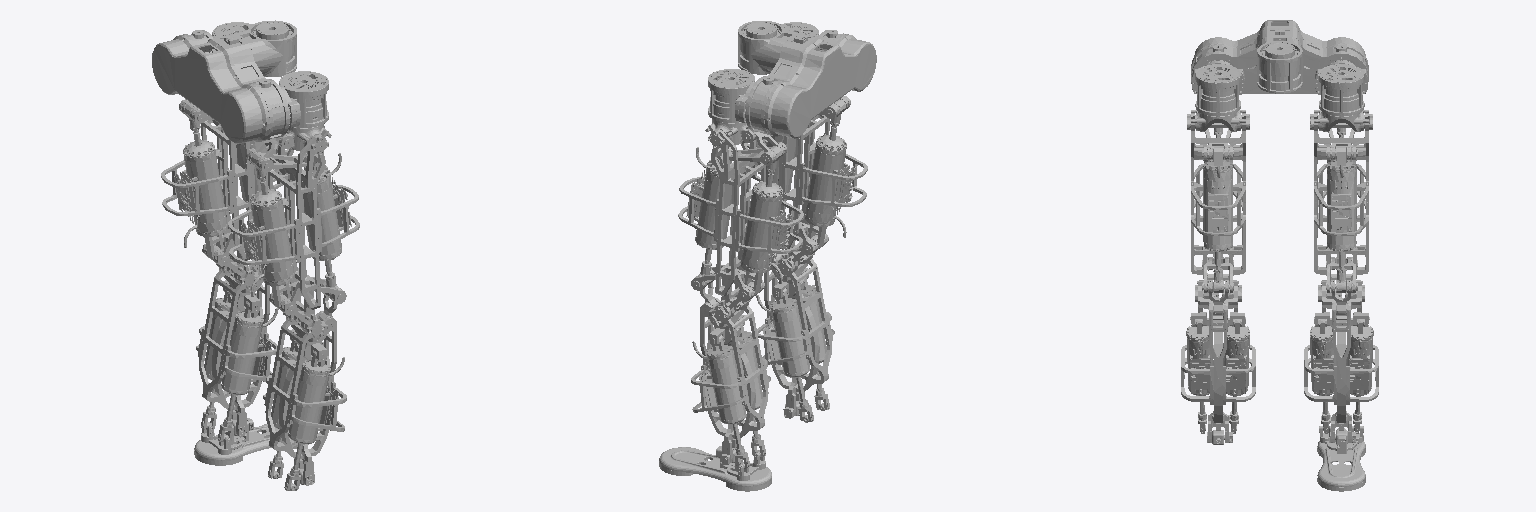
robot.urdf — XBot-L:
<?xml version="1.0" encoding="utf-8"?>
<!-- This URDF was automatically created by SolidWorks to URDF Exporter! Originally created by [author] ([email redacted]) 
     Commit Version: 1.6.0-4-g7f85cfe  Build Version: 1.6.7995.38578
     For more information, please see http://wiki.ros.org/sw_urdf_exporter -->
<robot name="XBot-L">
  <mujoco>
    <compiler meshdir="../meshes/" balanceinertia="true" discardvisual="false" />
  </mujoco>
  <!-- <link name="odom">
  </link> -->

  <!-- <joint name="ob" type="revolute">
     <origin xyz="0 0 0" rpy="0 0 0" />
    <parent link="odom" />
    <child link="base_link" />
    <axis xyz="0 1 0" />
    <limit lower="-0.4647" upper="0.5" effort="350" velocity="4" />
    <dynamics damping="0.1" friction="0.1" />
  </joint>   -->

  <link name="base_link">
    <inertial>
      <origin xyz="-0.080697 8.52E-06 -0.087154" rpy="0 0 0" />
      <mass value="8.7757" />
      <inertia ixx="0.13466" ixy="-0.00013895" ixz="-0.0099766" iyy="0.037377" iyz="-9.094E-05" izz="0.13912" />
    </inertial>
    <visual>
      <origin xyz="0 0 0" rpy="0 0 0" />
      <geometry>
        <mesh filename="../meshes/base_link.STL" />
      </geometry>
      <material name="">
        <color rgba="0.75294 0.75294 0.75294 1" />
      </material>
    </visual>
    <collision>
      <origin xyz="0 0 0" rpy="0 0 0" />
      <geometry>
        <box size="0.5 0.2 0.2"/>
      </geometry>
    </collision>

    <!-- <collision>
      <origin xyz="0 0 0" rpy="0 0 0" />
      <geometry>
        <mesh filename="../meshes/base_link.STL" />
      </geometry>
    </collision> -->
  </link>

  <!--left leg  %%%%%%%%%%%%%%%%%%%%%%%%%%%%%%%%%%%%%%%%%%%%%%%%%%%%%%%%%%%%%%%%%%%%%%%%%%%%%%%%%%%%%%%%%%%%%%%%%%%%-->
  <link name="leg_l1_link">
    <inertial>
      <origin xyz="0.050925 -8.452E-05 -0.005854" rpy="0 0 0" />
      <mass value="2.2605" />
      <inertia ixx="0.003557" ixy="4.7E-07" ixz="0.00016875" iyy="0.0038455" iyz="5.86E-06" izz="0.0044064" />
    </inertial>
    <visual>
      <origin xyz="0 0 0" rpy="0 0 0" />
      <geometry>
        <mesh filename="../meshes/leg_l1_link.STL" />
      </geometry>
      <material name="">
        <color rgba="0.75294 0.75294 0.75294 1" />
      </material>
    </visual>
    <!-- <collision>
      <origin xyz="0 0 0" rpy="0 0 0" />
      <geometry>
        <mesh filename="../meshes/left_leg_roll_link.STL" />
      </geometry>
    </collision> -->
  </link>
  <joint name="leg_l1_joint" type="revolute">
    <origin xyz="-0.0666 0.14 -0.109" rpy="0 0 0" />
    <parent link="base_link" />
    <child link="leg_l1_link" />
    <axis xyz="1 0 0" />
    <limit lower="-0.087" upper="1.57" effort="119" velocity="2.51" />
    <dynamics damping="12.736" friction="2.736" />
  </joint>
  <link name="leg_l2_link">
    <inertial>
      <origin xyz="-0.0039083 -0.0011634 -0.026864" rpy="0 0 0" />
      <mass value="0.67611" />
      <inertia ixx="0.0012933" ixy="3.08E-06" ixz="-1.89E-05" iyy="0.0003687" iyz="-3.6E-06" izz="0.0014339" />
    </inertial>
    <visual>
      <origin xyz="0 0 0" rpy="0 0 0" />
      <geometry>
        <mesh filename="../meshes/leg_l2_link.STL" />
      </geometry>
      <material name="">
        <color rgba="0.75294 0.75294 0.75294 1" />
      </material>
    </visual>
    <!-- <collision>
      <origin xyz="0 0 0" rpy="0 0 0" />
      <geometry>
        <mesh filename="../meshes/left_leg_yaw_link.STL" />
      </geometry>
    </collision> -->
  </link>
  <joint name="leg_l2_joint" type="revolute">
    <origin xyz="0.0621 0 -0.044" rpy="0 0 0" />
    <parent link="leg_l1_link" />
    <child link="leg_l2_link" />
    <axis xyz="0 0 1" />
    <limit lower="-1.57" upper="1.57" effort="120" velocity="4.18" />
    <dynamics damping="3.747" friction="3.424" />
  </joint>
  <link name="leg_l3_link">
    <inertial>
      <origin xyz="-0.018592 -2.02E-05 -0.20901" rpy="0 0 0" />
      <mass value="9.4927" />
      <inertia ixx="0.11116" ixy="3.94E-06" ixz="0.0066322" iyy="0.13566" iyz="-4.984E-05" izz="0.037578" />
    </inertial>
    <visual>
      <origin xyz="0 0 0" rpy="0 0 0" />
      <geometry>
        <mesh filename="../meshes/leg_l3_link.STL" />
      </geometry>
      <material name="">
        <color rgba="0.75294 0.75294 0.75294 1" />
      </material>
    </visual>
    <collision>
      <origin xyz="0 0 -0.17" rpy="0 0 0" />
      <geometry>
        <box size="0.08 0.08 0.25" />
      </geometry>
    </collision>
  </link>
  <joint name="leg_l3_joint" type="revolute">
    <origin xyz="0 0 -0.0325" rpy="0 0 0" />
    <parent link="leg_l2_link" />
    <child link="leg_l3_link" />
    <axis xyz="0 1 0" />
    <limit lower="-1.22" upper="0.17" effort="200" velocity="5.23" />
    <dynamics damping="1.714" friction="3.823" />
  </joint>
  <link name="leg_l4_link">
    <inertial>
      <origin xyz="-0.0060469 -6.993E-05 -0.15852" rpy="0 0 0" />
      <mass value="6.5464" />
      <inertia ixx="0.057889" ixy="1.539E-05" ixz="-0.0065366" iyy="0.053034" iyz="0.00012154" izz="0.014966" />
    </inertial>
    <visual>
      <origin xyz="0 0 0" rpy="0 0 0" />
      <geometry>
        <mesh filename="../meshes/leg_l4_link.STL" />
      </geometry>
      <material name="">
        <color rgba="0.75294 0.75294 0.75294 1" />
      </material>
    </visual>
    <collision>
      <origin xyz="0 0 -0.18" rpy="0 0 0" />
      <geometry>
        <box size="0.05 0.05 0.28" />
      </geometry>
    </collision>
  </link>
  <joint name="leg_l4_joint" type="revolute">
    <origin xyz="0 0 -0.43" rpy="0 0 0" />
    <parent link="leg_l3_link" />
    <child link="leg_l4_link" />
    <axis xyz="0 1 0" />
    <limit lower="-0.174" upper="1.3" effort="240" velocity="4.36" />
    <dynamics damping="7.74" friction="5.659" />
  </joint>
  <link name="leg_l5_link">
    <inertial>
      <origin xyz="0 0 0" rpy="0 0 0" />
      <mass value="0.091432" />
      <inertia ixx="1.185E-05" ixy="0" ixz="0" iyy="1.185E-05" iyz="0" izz="1.616E-05" />
    </inertial>
    <visual>
      <origin xyz="0 0 0" rpy="0 0 0" />
      <geometry>
        <mesh filename="../meshes/leg_l5_link.STL" />
      </geometry>
      <material name="">
        <color rgba="0.75294 0.75294 0.75294 1" />
      </material>
    </visual>
    <!-- <collision>
      <origin xyz="0 0 0" rpy="0 0 0" />
      <geometry>
        <mesh filename="../meshes/left_ankle_pitch_link.STL" />
      </geometry>
    </collision> -->
  </link>
  <joint name="leg_l5_joint" type="revolute">
    <origin xyz="0 0 -0.36" rpy="0 0 0" />
    <parent link="leg_l4_link" />
    <child link="leg_l5_link" />
    <axis xyz="0 1 0" />
    <limit lower="-0.697" upper="0.348" effort="130" velocity="4.36" />
    <dynamics damping="10.068" friction="8.573" />
  </joint>
  <link name="leg_l6_link">
    <inertial>
      <origin xyz="0.02265382 0 -0.03519545" rpy="0 0 0" />
      <mass value="0.6688682" />
      <inertia ixx="0.00065567" ixy="7E-08" ixz="0.00016569" iyy="0.00396496" iyz="-4E-08" izz="0.00442875" />
    </inertial>
    <visual>
      <origin xyz="0 0 0" rpy="0 0 0" />
      <geometry>
        <mesh filename="../meshes/leg_l6_link.STL" />
      </geometry>
      <material name="">
        <color rgba="0.75294 0.75294 0.75294 1" />
      </material>
    </visual>


    <collision>
    <origin xyz="0.04 0.0 -0.045" rpy="0 0 0" />
    <geometry>
        <box size="0.26 0.091 0.018" />
    </geometry>
    </collision> 
  </link>
  <joint name="leg_l6_joint" type="revolute">
    <origin xyz="0 0 0" rpy="0 0 0" />
    <parent link="leg_l5_link" />
    <child link="leg_l6_link" />
    <axis xyz="1 0 0" />
    <limit lower="-0.26" upper="0.26" effort="130" velocity="6.54" />
    <dynamics damping="8.4" friction="3.4" />
  </joint>




























  <!--right leg %%%%%%%%%%%%%%%%%%%%%%%%%%%%%%%%%%%%%%%%%%%%%%%%%%%%%%%%%%%%%%%%%%%%%%%%%%%%%%%%%%%%%%%%%%%%%%%%%%%-->
  <link name="leg_r1_link">
    <inertial>
      <origin xyz="0.05092541 -8.452E-05 -0.00585399" rpy="0 0 0" />
      <mass value="2.26050125" />
      <inertia ixx="0.00355697" ixy="4.7E-07" ixz="0.00016875" iyy="0.00384548" iyz="5.86E-06" izz="0.00440643" />
    </inertial>
    <visual>
      <origin xyz="0 0 0" rpy="0 0 0" />
      <geometry>
        <mesh filename="../meshes/leg_r1_link.STL" />
      </geometry>
      <material name="">
        <color rgba="0.75294 0.75294 0.75294 1" />
      </material>
    </visual>
    <!-- <collision>
      <origin xyz="0 0 0" rpy="0 0 0" />
      <geometry>
        <mesh filename="../meshes/right_leg_roll_link.STL" />
      </geometry>
    </collision> -->
  </link>
  <joint name="leg_r1_joint" type="revolute">
    <origin xyz="-0.0666 -0.14 -0.109" rpy="0 0 0" />
    <parent link="base_link" />
    <child link="leg_r1_link" />
    <axis xyz="1 0 0" />
    <limit lower="-1.57" upper="0.087" effort="119" velocity="2.5" />
    <dynamics damping="12.736" friction="2.736" />
  </joint>
  <link name="leg_r2_link">
    <inertial>
      <origin xyz="-0.00390825 -0.00116338 -0.02686431" rpy="0 0 0" />
      <mass value="0.6761071" />
      <inertia ixx="0.00129332" ixy="3.08E-06" ixz="-1.89E-05" iyy="0.0003687" iyz="-3.6E-06" izz="0.00143388" />
    </inertial>
    <visual>
      <origin xyz="0 0 0" rpy="0 0 0" />
      <geometry>
        <mesh filename="../meshes/leg_r2_link.STL" />
      </geometry>
      <material name="">
        <color rgba="0.75294 0.75294 0.75294 1" />
      </material>
    </visual>
    <!-- <collision>
      <origin xyz="0 0 0" rpy="0 0 0" />
      <geometry>
        <mesh filename="../meshes/right_leg_yaw_link.STL" />
      </geometry>
    </collision> -->
  </link>
  <joint name="leg_r2_joint" type="revolute">
    <origin xyz="0.0621 0 -0.044" rpy="0 0 0" />
    <parent link="leg_r1_link" />
    <child link="leg_r2_link" />
    <axis xyz="0 0 1" />
    <limit lower="-1.57" upper="1.57" effort="120" velocity="4.18" />
    <dynamics damping="3.747" friction="3.424" />
  </joint>
  <link name="leg_r3_link">
    <inertial>
      <origin xyz="-0.01859241 -2.02E-05 -0.20901058" rpy="0 0 0" />
      <mass value="9.49271851" />
      <inertia ixx="0.11115744" ixy="3.94E-06" ixz="0.0066322" iyy="0.13566381" iyz="-4.984E-05" izz="0.03757752" />
    </inertial>
    <visual>
      <origin xyz="0 0 0" rpy="0 0 0" />
      <geometry>
        <mesh filename="../meshes/leg_r3_link.STL" />
      </geometry>
      <material name="">
        <color rgba="0.75294 0.75294 0.75294 1" />
      </material>
    </visual>
    <collision>
      <origin xyz="0 0 -0.17" rpy="0 0 0" />
      <geometry>
        <box size="0.08 0.08 0.25" />
      </geometry>
    </collision>
  </link>
  <joint name="leg_r3_joint" type="revolute">
    <origin xyz="0 0 -0.0325" rpy="0 0 0" />
    <parent link="leg_r2_link" />
    <child link="leg_r3_link" />
    <axis xyz="0 1 0" />
    <limit lower="-1.22" upper="0.17" effort="200" velocity="5.23" />
    <dynamics damping="1.714" friction="3.823" />
  </joint>
  <link name="leg_r4_link">
    <inertial>
      <origin xyz="-0.00604687 -6.993E-05 -0.1585234" rpy="0 0 0" />
      <mass value="6.54635421" />
      <inertia ixx="0.05788881" ixy="1.539E-05" ixz="-0.00653656" iyy="0.05303365" iyz="0.00012154" izz="0.01496565" />
    </inertial>
    <visual>
      <origin xyz="0 0 0" rpy="0 0 0" />
      <geometry>
        <mesh filename="../meshes/leg_r4_link.STL" />
      </geometry>
      <material name="">
        <color rgba="0.75294 0.75294 0.75294 1" />
      </material>
    </visual>
    <collision>
      <origin xyz="0 0 -0.18" rpy="0 0 0" />
      <geometry>
        <box size="0.05 0.05 0.28" />
      </geometry>
    </collision>
  </link>
  <joint name="leg_r4_joint" type="revolute">
    <origin xyz="0 0 -0.43" rpy="0 0 0" />
    <parent link="leg_r3_link" />
    <child link="leg_r4_link" />
    <axis xyz="0 1 0" />
    <limit lower="-0.174" upper="1.3" effort="240" velocity="4.36" />
    <dynamics damping="7.74" friction="5.659" />
  </joint>
  <link name="leg_r5_link">
    <inertial>
      <origin xyz="0 0 0" rpy="0 0 0" />
      <mass value="0.09143186" />
      <inertia ixx="1.185E-05" ixy="0" ixz="0" iyy="1.185E-05" iyz="0" izz="1.616E-05" />
    </inertial>
    <visual>
      <origin xyz="0 0 0" rpy="0 0 0" />
      <geometry>
        <mesh filename="../meshes/leg_r5_link.STL" />
      </geometry>
      <material name="">
        <color rgba="0.752941176470588 0.752941176470588 0.752941176470588 1" />
      </material>
    </visual>
    <!-- <collision>
      <origin xyz="0 0 0" rpy="0 0 0" />
      <geometry>
        <mesh filename="../meshes/right_ankle_pitch_link.STL" />
      </geometry>
    </collision> -->
  </link>
  <joint name="leg_r5_joint" type="revolute">
    <origin xyz="0 0 -0.36" rpy="0 0 0" />
    <parent link="leg_r4_link" />
    <child link="leg_r5_link" />
    <axis xyz="0 1 0" />
    <limit lower="-0.697" upper="0.348" effort="130" velocity="4.36" />
    <dynamics damping="10.068" friction="8.573" />
  </joint>


  <link name="leg_r6_link">
    <inertial>
      <origin xyz="0.02265382 0 -0.03519545" rpy="0 0 0" />
      <mass value="0.6688682" />
      <inertia ixx="0.00065567" ixy="7E-08" ixz="0.00016569" iyy="0.00396496" iyz="-4E-08" izz="0.00442875" />
    </inertial>
    <visual>
      <origin xyz="0 0 0" rpy="0 0 0" />
      <geometry>
        <mesh filename="../meshes/leg_r6_link.STL" />
      </geometry>
      <material name="">
        <color rgba="0.75294 0.75294 0.75294 1" />
      </material>
    </visual>
    <collision>
    <origin xyz="0.04 0.0 -0.045" rpy="0 0 0" />
    <geometry>
        <box size="0.26 0.091 0.018" />
    </geometry>
    </collision> 
  </link>



  <joint name="leg_r6_joint" type="revolute">
    <origin xyz="0 0 0" rpy="0 0 0" />
    <parent link="leg_r5_link" />
    <child link="leg_r6_link" />
    <axis xyz="1 0 0" />
    <limit lower="-0.26" upper="0.26" effort="130" velocity="6.54" />
    <dynamics damping="8.4" friction="3.4" />
  </joint>

  <!-- 新增 foot_link -->
  <link name="left_foot_front_link" />
  <!-- <link name="left_foot_front_link">
    <visual>
      <origin xyz="0 0 0"/>
      <geometry>
        <sphere radius="0.005"/>
      </geometry>
      <material name="red">
        <color rgba="1 0 0 1"/>
      </material>
    </visual>
  </link> -->

  <joint name="left_foot_front_joint" type="fixed" dont_collapse="true">
    <origin xyz="0.15 0 -0.058" rpy="0 0 0" />
    <parent link="leg_l6_link" />
    <child link="left_foot_front_link" />
  </joint>

  <link name="left_foot_mid_link" />
  <!-- <link name="left_foot_mid_link">
    <visual>
      <origin xyz="0 0 0"/>
      <geometry>
        <sphere radius="0.005"/>
      </geometry>
      <material name="green">
        <color rgba="0 1 0 1"/>
      </material>
    </visual>
  </link> -->

  <joint name="left_foot_mid_joint" type="fixed" dont_collapse="true">
    <origin xyz="0.0 0 -0.058" rpy="0 0 0" />
    <parent link="leg_l6_link" />
    <child link="left_foot_mid_link" />
  </joint>

  <link name="left_foot_hind_link" />
  <!-- <link name="left_foot_hind_link">
    <visual>
      <origin xyz="0 0 0"/>
      <geometry>
        <sphere radius="0.005"/>
      </geometry>
      <material name="blue">
        <color rgba="0 0 1 1"/>
      </material>
    </visual>
  </link> -->

  <joint name="left_foot_hind_joint" type="fixed" dont_collapse="true">
    <origin xyz="-0.095 0 -0.058" rpy="0 0 0" />
    <parent link="leg_l6_link" />
    <child link="left_foot_hind_link" />
  </joint>

  <link name="right_foot_front_link" />
  <!-- <link name="right_foot_front_link">
    <visual>
      <origin xyz="0 0 0"/>
      <geometry>
        <sphere radius="0.005"/>
      </geometry>
      <material name="cyan">
        <color rgba="0 1 1 1"/>
      </material>
    </visual>
  </link> -->

  <joint name="right_foot_front_joint" type="fixed" dont_collapse="true">
    <origin xyz="0.15 0 -0.058" rpy="0 0 0" />
    <parent link="leg_r6_link" />
    <child link="right_foot_front_link" />
  </joint>

  <link name="right_foot_mid_link" />
  <!-- <link name="right_foot_mid_link">
    <visual>
      <origin xyz="0 0 0"/>
      <geometry>
        <sphere radius="0.005"/>
      </geometry>
      <material name="magenta">
        <color rgba="1 0 1 1"/>
      </material>
    </visual>
  </link> -->

  <joint name="right_foot_mid_joint" type="fixed" dont_collapse="true">
    <origin xyz="0.0 0 -0.058" rpy="0 0 0" />
    <parent link="leg_r6_link" />
    <child link="right_foot_mid_link" />
  </joint>

  <link name="right_foot_hind_link" />
  <!-- <link name="right_foot_hind_link">
    <visual>
      <origin xyz="0 0 0"/>
      <geometry>
        <sphere radius="0.005"/>
      </geometry>
      <material name="yellow">
        <color rgba="1 1 0 1"/>
      </material>
    </visual>
  </link> -->

  <joint name="right_foot_hind_joint" type="fixed" dont_collapse="true">
    <origin xyz="-0.095 0 -0.058" rpy="0 0 0" />
    <parent link="leg_r6_link" />
    <child link="right_foot_hind_link" />
  </joint>


</robot>

--- Facts derived from the render (not from the file) ---
3 views of the same robot in one strip: view 1: azimuth 30°, elevation 25°; view 2: azimuth 150°, elevation 25°; view 3: azimuth 270°, elevation 25° (orthographic).
Robot: XBot-L — 19 links, 18 joints (12 revolute, 6 fixed); root link base_link; default pose: every joint at zero.
Visible links, largest first — view 1: leg_r3_link, base_link, leg_r4_link, leg_l4_link, leg_l3_link, leg_r1_link, leg_l6_link, leg_r2_link; view 2: leg_l3_link, base_link, leg_l4_link, leg_r4_link, leg_r3_link, leg_l6_link, leg_l1_link, leg_l2_link; view 3: leg_r3_link, leg_l3_link, leg_r4_link, leg_l4_link, base_link, leg_l1_link, leg_r1_link, leg_l6_link, leg_r2_link, leg_l2_link.
Boxes of the visible links, x1=… form: leg_r3_link: x1=228, y1=130, x2=359, y2=332; base_link: x1=152, y1=20, x2=296, y2=143; leg_r4_link: x1=263, y1=311, x2=346, y2=490; leg_l4_link: x1=196, y1=264, x2=278, y2=441; leg_l3_link: x1=161, y1=99, x2=288, y2=283; leg_r1_link: x1=279, y1=71, x2=328, y2=127; leg_l6_link: x1=194, y1=418, x2=308, y2=465; leg_r2_link: x1=280, y1=124, x2=331, y2=154; leg_l3_link: x1=678, y1=125, x2=803, y2=316; base_link: x1=738, y1=21, x2=876, y2=138; leg_l4_link: x1=691, y1=297, x2=770, y2=468; leg_r4_link: x1=756, y1=253, x2=834, y2=422; leg_r3_link: x1=746, y1=96, x2=867, y2=271; leg_l6_link: x1=659, y1=446, x2=771, y2=491; leg_l1_link: x1=708, y1=69, x2=754, y2=122; leg_l2_link: x1=705, y1=119, x2=754, y2=148; leg_r3_link: x1=1191, y1=113, x2=1245, y2=315; leg_l3_link: x1=1314, y1=113, x2=1368, y2=315; leg_r4_link: x1=1181, y1=281, x2=1255, y2=442; leg_l4_link: x1=1304, y1=281, x2=1378, y2=442; base_link: x1=1191, y1=20, x2=1368, y2=94; leg_l1_link: x1=1315, y1=61, x2=1368, y2=116; leg_r1_link: x1=1191, y1=61, x2=1244, y2=116; leg_l6_link: x1=1317, y1=426, x2=1365, y2=491; leg_r2_link: x1=1187, y1=110, x2=1249, y2=131; leg_l2_link: x1=1310, y1=110, x2=1372, y2=131.
Size in the robot's own frame: 0.3515 by 0.4499 by 1.03 metres.
Meshes: 13 distinct files referenced, 12 mesh visuals loaded (12 binary STL); not drawn: 1 (reference not matched to a file when rendering).
